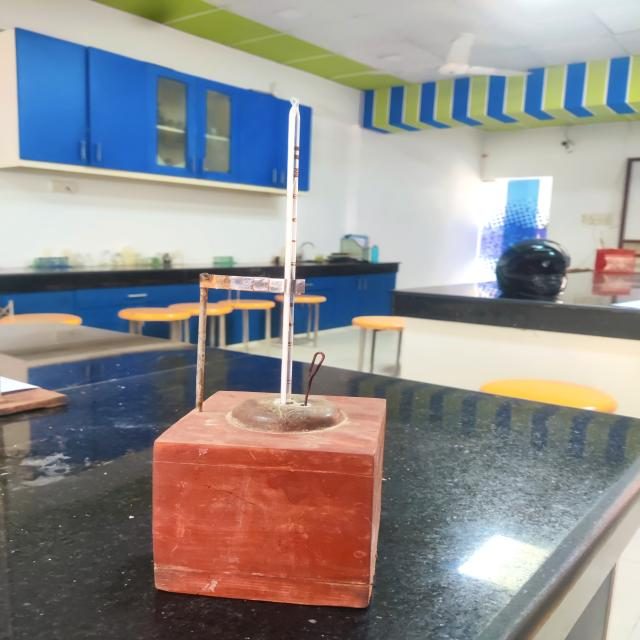Calorimeter: (104, 77, 446, 635)
